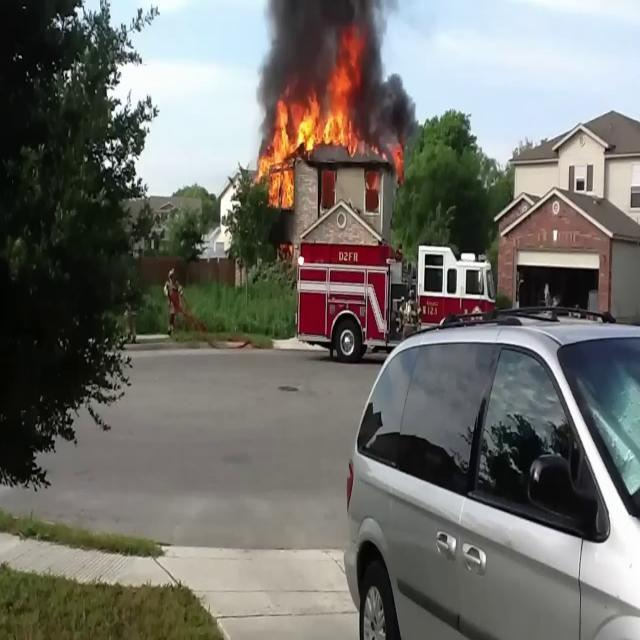Fire: (255, 56, 366, 202)
Smoke: (251, 0, 419, 114)
